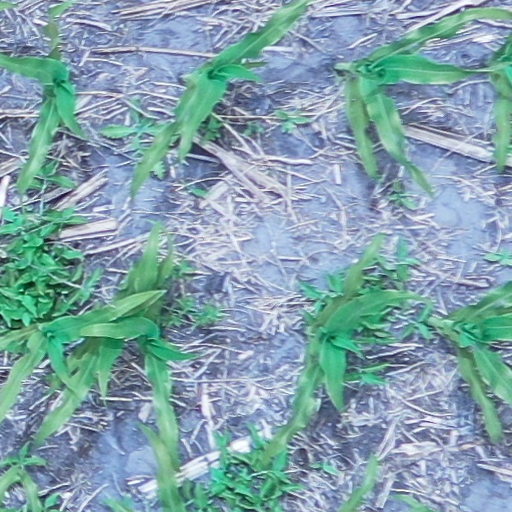planta: (255, 228, 439, 470), (77, 226, 200, 477), (29, 303, 143, 451), (96, 216, 164, 310)
